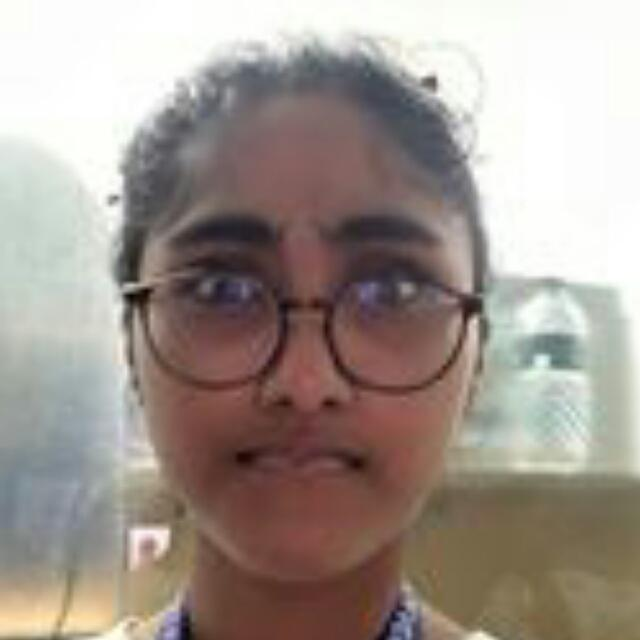Angry: (96, 162, 534, 589)
